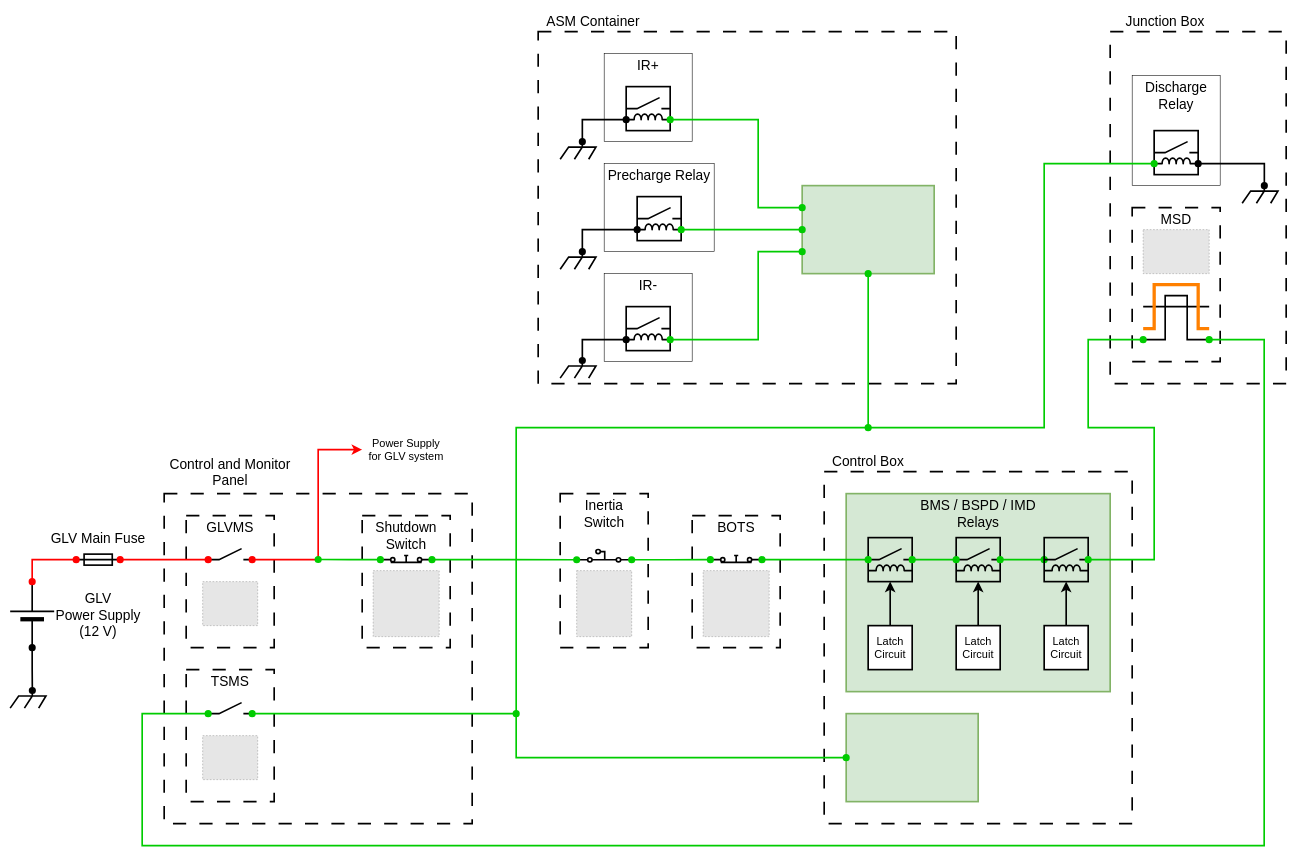
Some shapes in this 1296 by 863 pixel diagram are drawn without their labels. Grey dashed boxes stand in for pictures. The shapes that lost their labels are listed below. From the top down, each one's centre as x and y in pixels, then its label:
At (x=868, y=229): "Precharge Controller".
At (x=912, y=757): "VCU".
